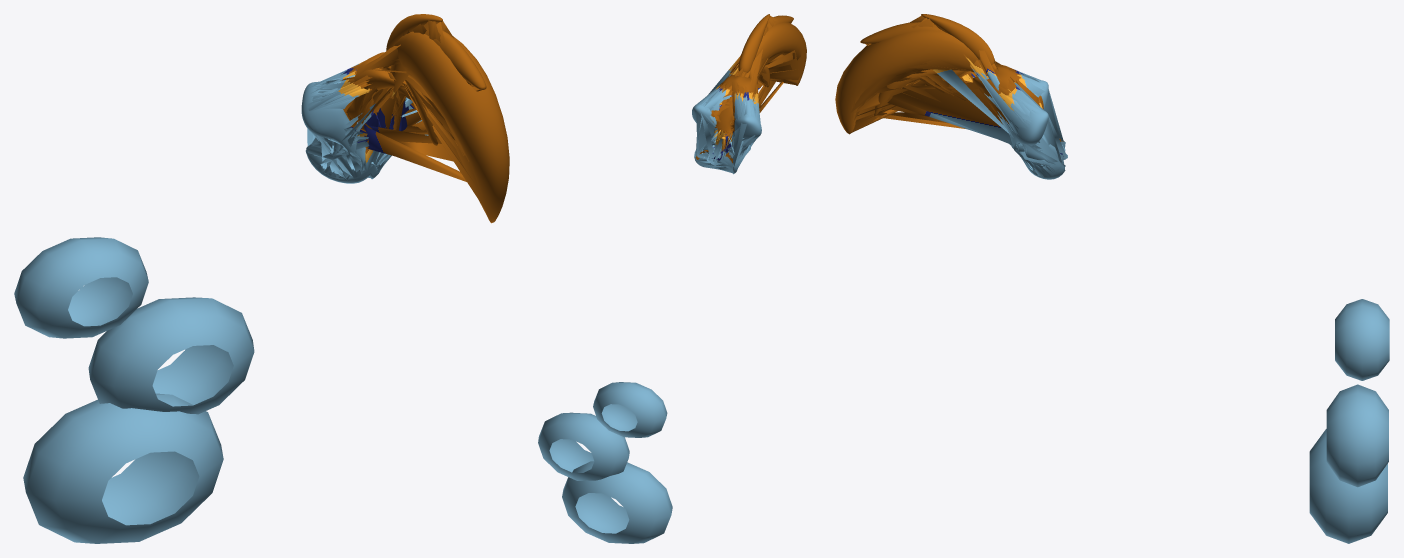
File: roadrunner_running.obj
The picture shows the model from 3 angles, left to right: view 1: azimuth 30°, elevation 25°; view 2: azimuth 150°, elevation 25°; view 3: azimuth 270°, elevation 25°; orthographic projection. The views are drawn at different scales.
Parts seen in each view (by area): view 1: RoadRunner_Running; view 2: RoadRunner_Running; view 3: RoadRunner_Running.
Part boxes in pixels (x1,y1,x2,y2): RoadRunner_Running: (14,14,509,543); RoadRunner_Running: (538,14,806,543); RoadRunner_Running: (835,14,1389,543).
Size of the model in its own units: 21.5 by 64.46 by 61.45.
1 material, 1 textured.
